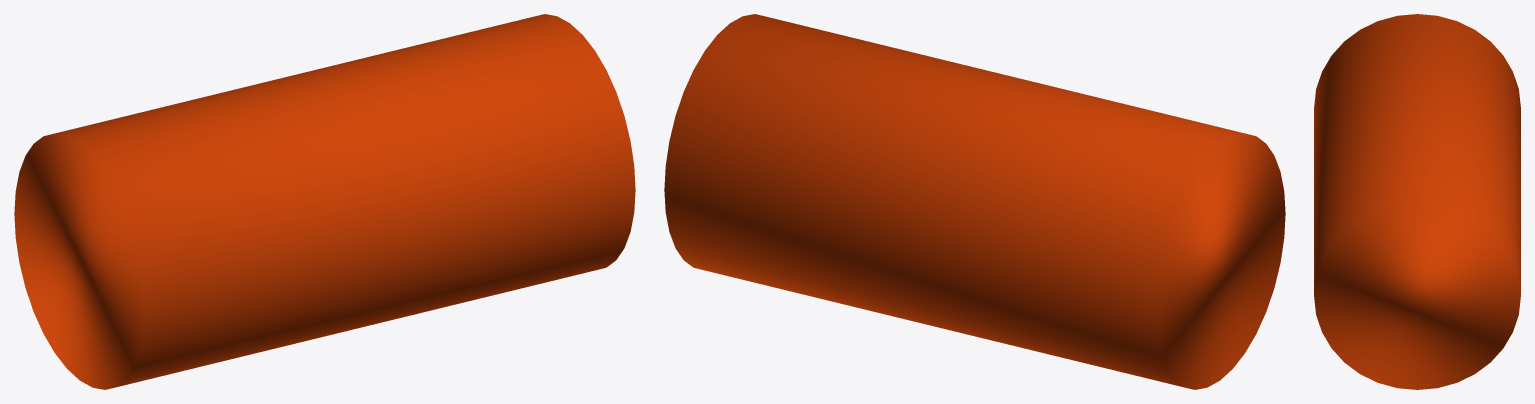
The model's file is pivot.obj.
3 views of the same model, side by side, from view 1: azimuth 30°, elevation 25°; view 2: azimuth 150°, elevation 25°; view 3: azimuth 270°, elevation 25° (orthographic). The views are drawn at different scales.
Parts seen in each view (by area): view 1: Cylinder; view 2: Cylinder; view 3: Cylinder.
Part boxes in pixels (x1=…): Cylinder: x1=14, y1=14, x2=635, y2=389; Cylinder: x1=664, y1=14, x2=1285, y2=389; Cylinder: x1=1314, y1=14, x2=1520, y2=389.
Size of the model in its own units: 0.0448 by 0.0208 by 0.0208.
